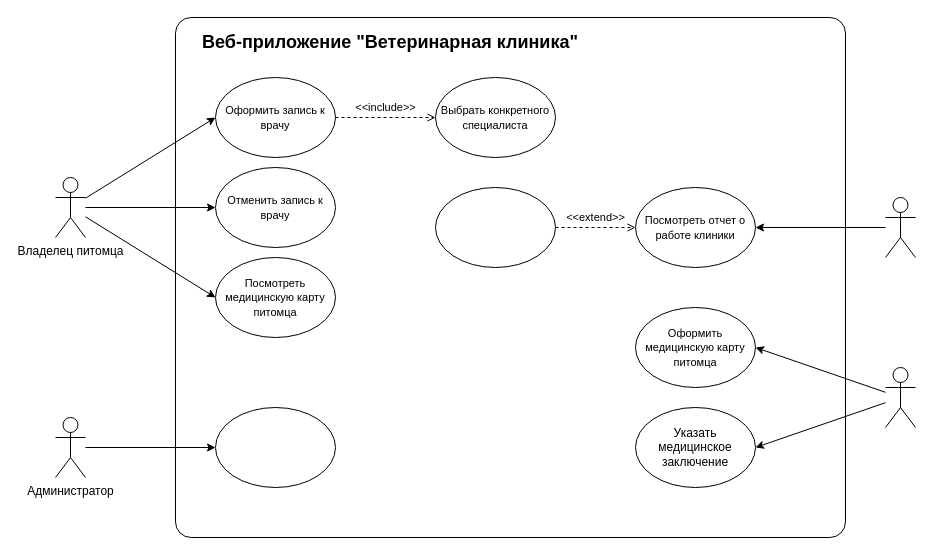
This 947x555 diagram has some shape labels left out. Here are the shapes that lost their labels. From the top down, the centre of each, then its label:
point (495, 227): Выбрать срез
point (900, 227): Глав. врач
point (900, 397): Ветеринар
point (275, 447): CRU учетных записей
